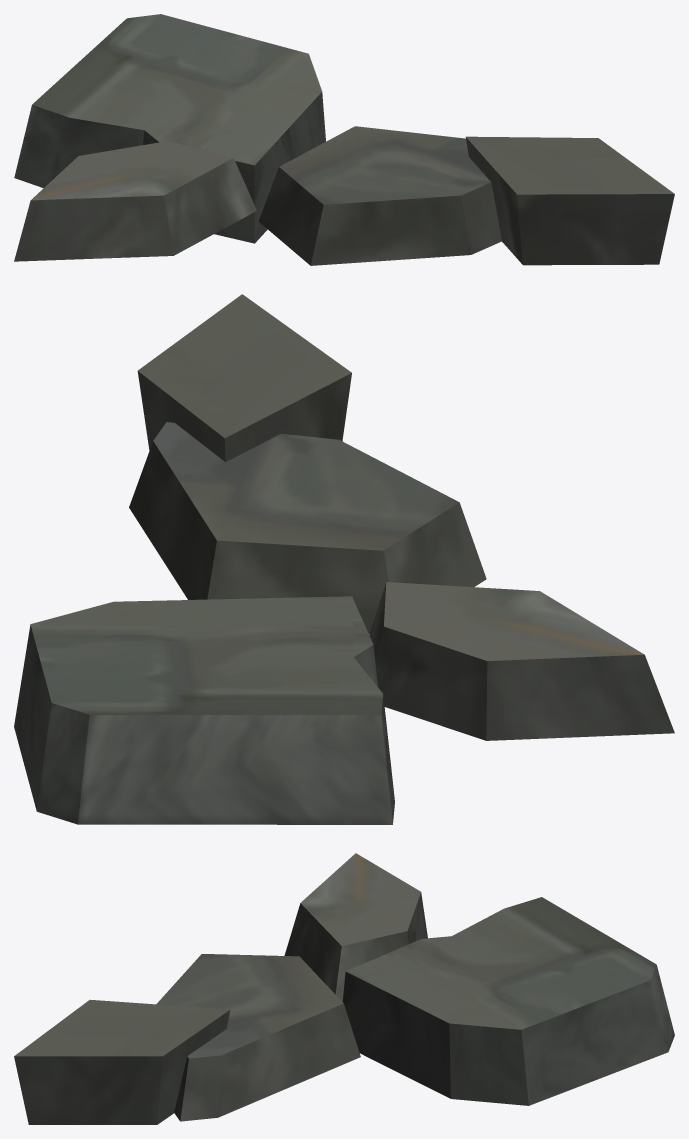
The model's file is sc_dungeon_moshenta_zhuankuai_001_a.FBX.
3 views of the same model, one above another, from view 1: azimuth 30°, elevation 25°; view 2: azimuth 150°, elevation 25°; view 3: azimuth 270°, elevation 25° (orthographic). The views are drawn at different scales.
Parts seen in each view (by area): view 1: sc_dungeon_moshenta_zhuankuai_001_a; view 2: sc_dungeon_moshenta_zhuankuai_001_a; view 3: sc_dungeon_moshenta_zhuankuai_001_a.
Part boxes in pixels (x1=…): sc_dungeon_moshenta_zhuankuai_001_a: x1=14, y1=14, x2=674, y2=265; sc_dungeon_moshenta_zhuankuai_001_a: x1=14, y1=294, x2=674, y2=824; sc_dungeon_moshenta_zhuankuai_001_a: x1=14, y1=853, x2=674, y2=1124.
Size of the model in its own units: 1.43 by 1.72 by 0.3077.
Materials: 1 (1 with a texture image).
